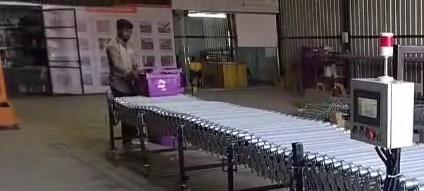box: (139, 69, 183, 96)
